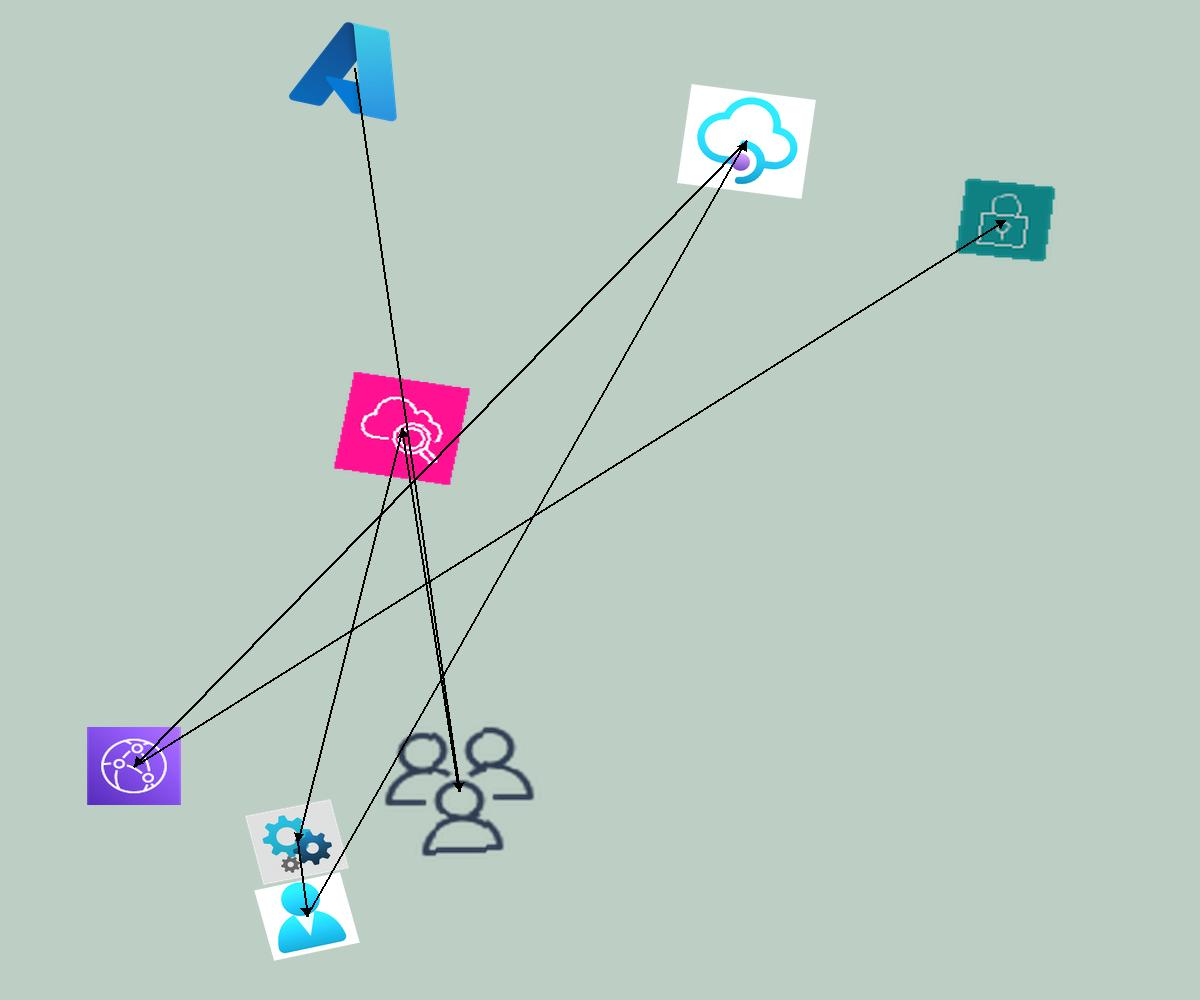AWS-CloudFront: (86, 726, 182, 806)
AWS-CloudWatch: (333, 371, 471, 486)
AWS-Private-subnet: (954, 177, 1057, 263)
AWS-Res_Users: (372, 719, 547, 864)
Azure_api: (245, 799, 349, 885)
Azure_api_gateway: (677, 84, 816, 199)
Azure_services: (281, 7, 428, 130)
Azure_users: (254, 872, 360, 961)
